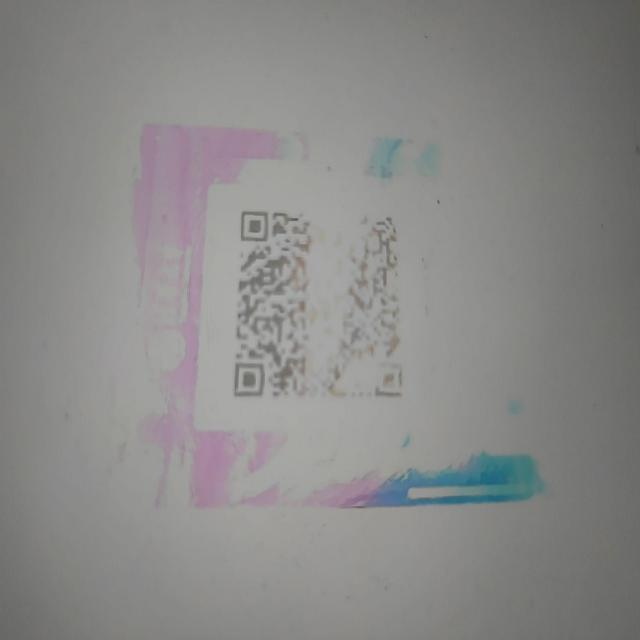qr_code: (235, 213, 401, 398)
